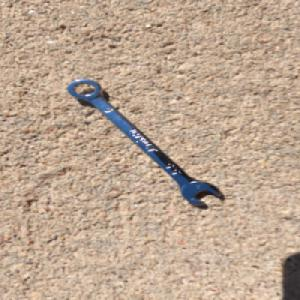Wrench: (63, 77, 221, 208)
